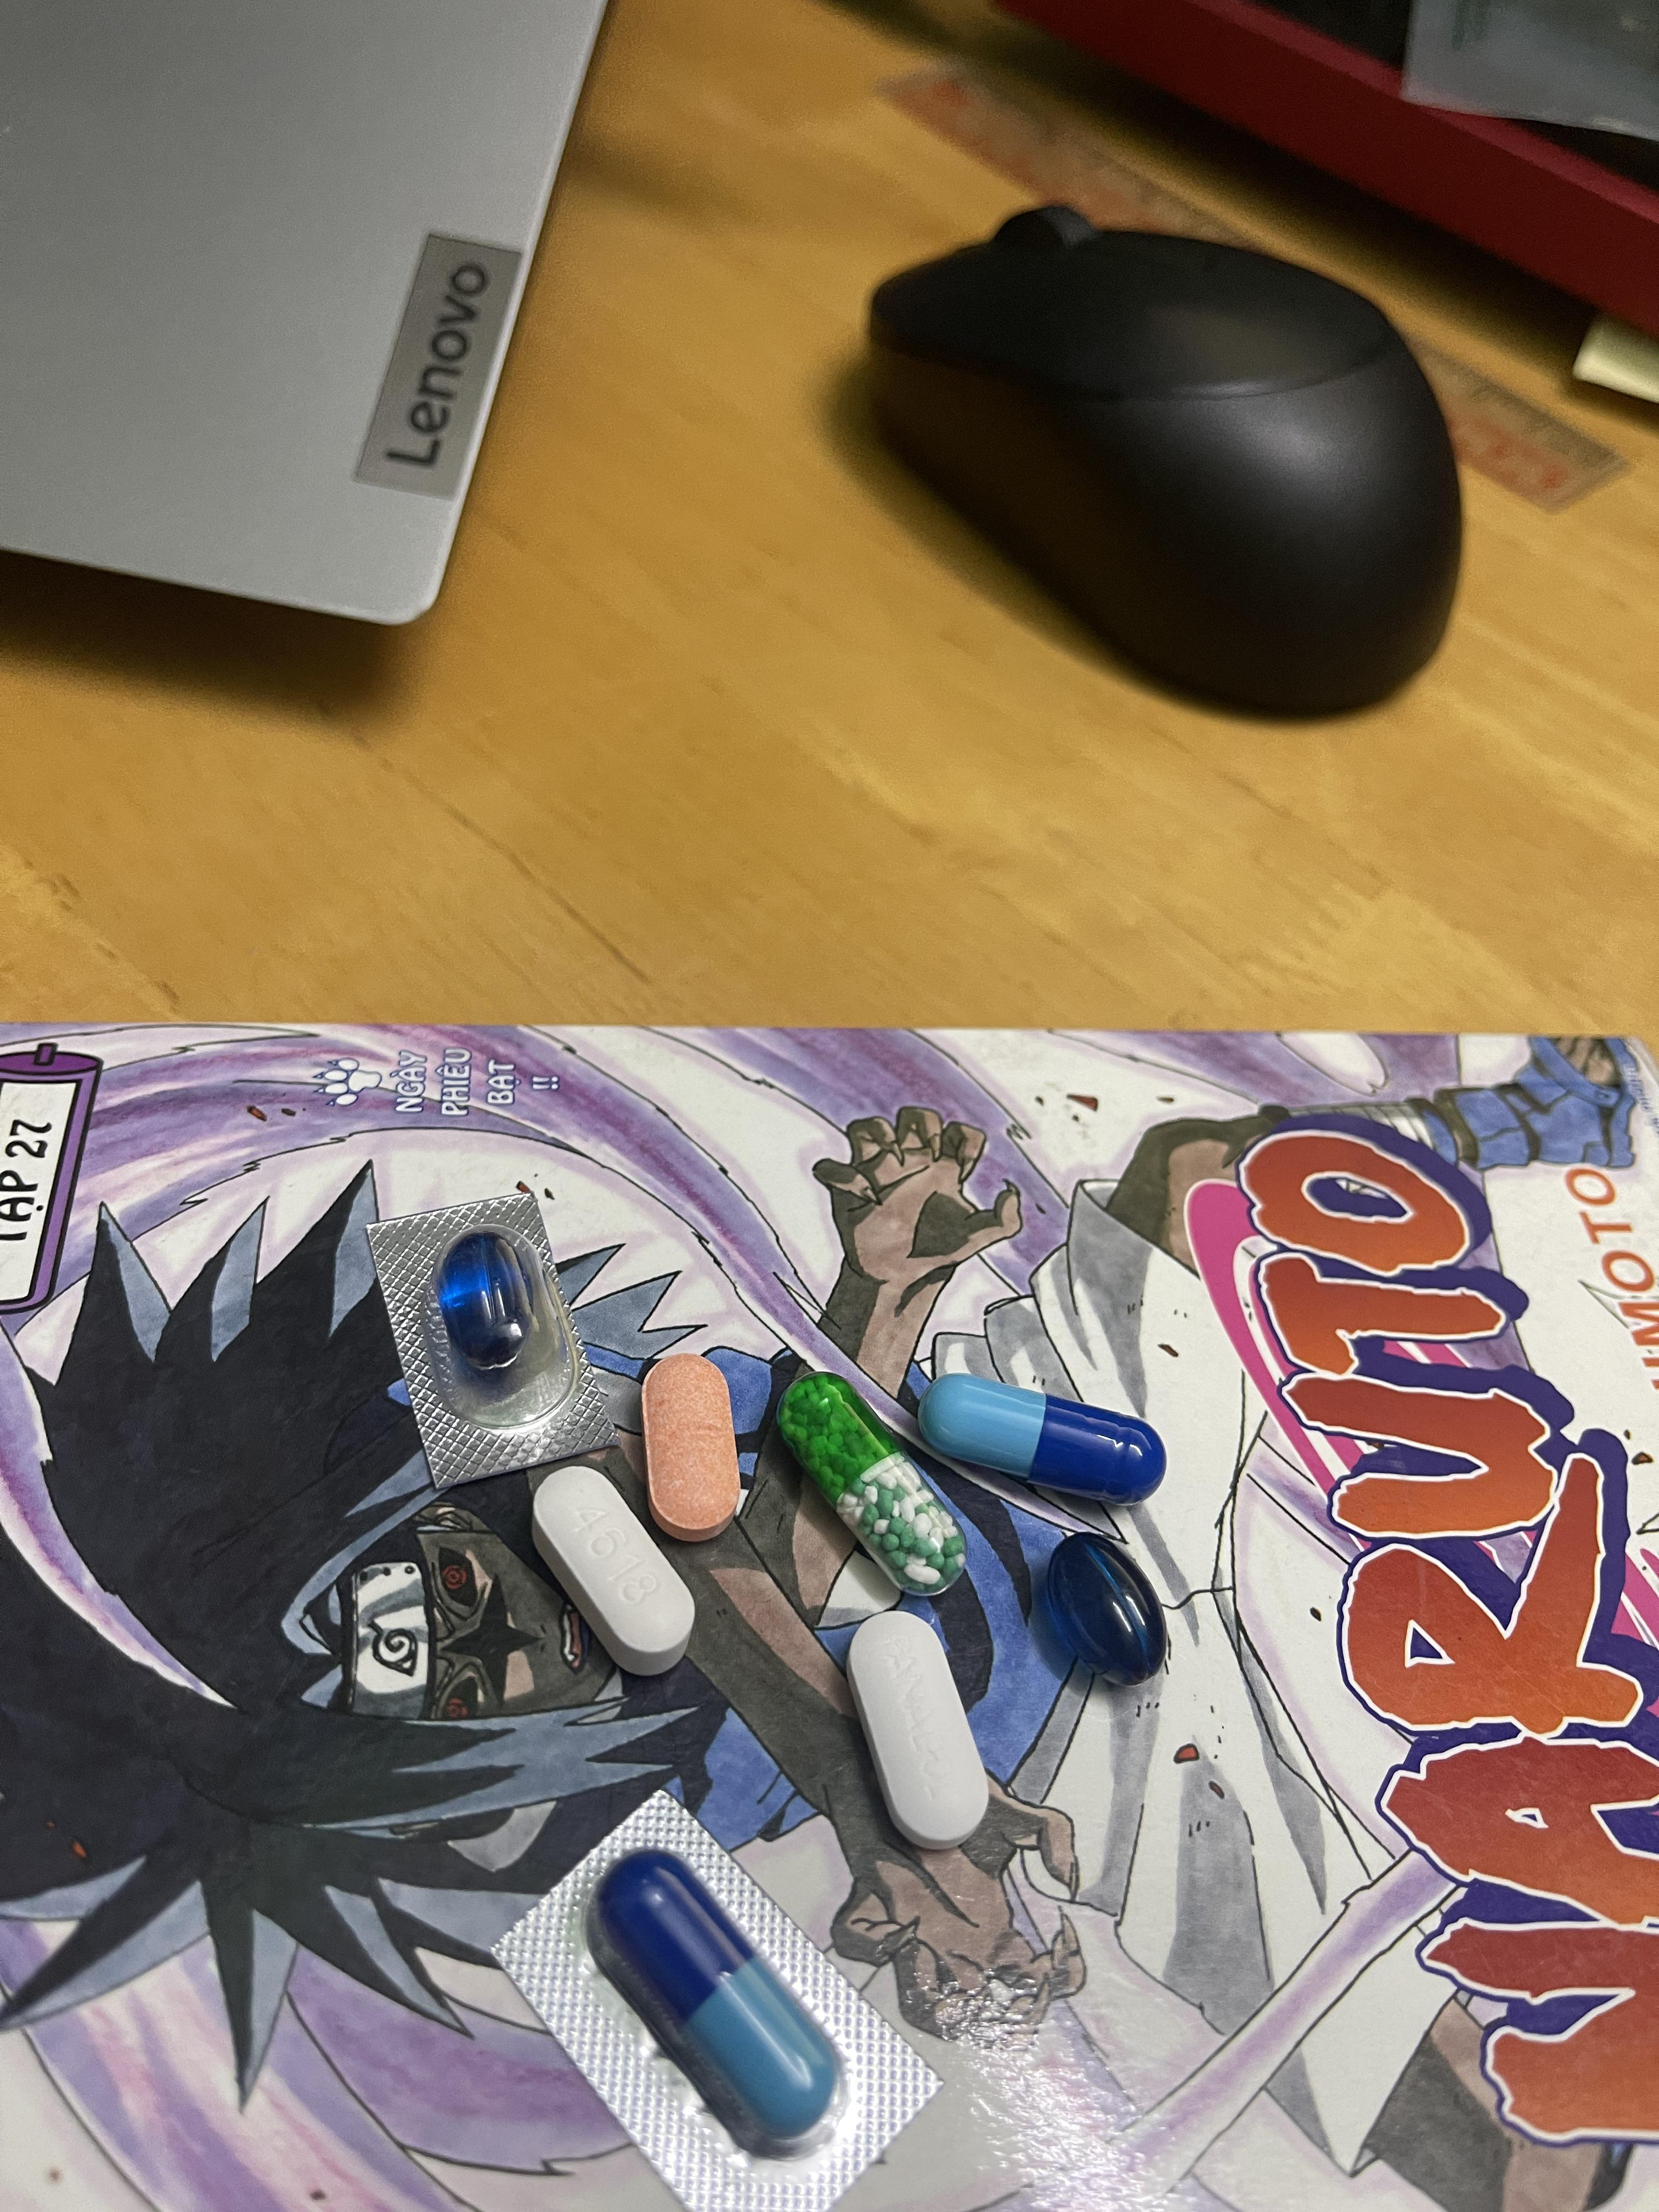Lincomyxin_500mg: (1042, 1531, 1166, 1686), (437, 1238, 530, 1372)
Loratadine_10mg: (641, 1355, 737, 1534)
Paracetamol_350mg: (845, 1609, 986, 1851)
Paracetamol_500mg: (532, 1465, 694, 1677)
Paracetamol_650mg: (779, 1376, 941, 1576)
pill: (591, 1858, 838, 2144), (927, 1371, 1166, 1503)
